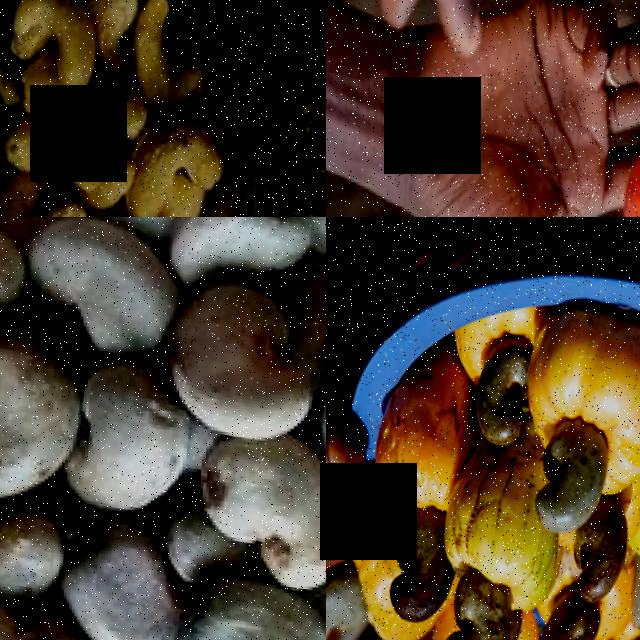cashew: (168, 274, 296, 450), (189, 430, 326, 571), (70, 363, 179, 523), (72, 506, 176, 640), (125, 98, 228, 217), (160, 217, 326, 288), (463, 318, 548, 454), (388, 510, 463, 640), (153, 587, 326, 640), (68, 82, 131, 201), (570, 506, 633, 605), (446, 575, 538, 640), (140, 1, 197, 95), (34, 0, 99, 81), (326, 550, 375, 640), (0, 182, 93, 217), (90, 0, 154, 46)
